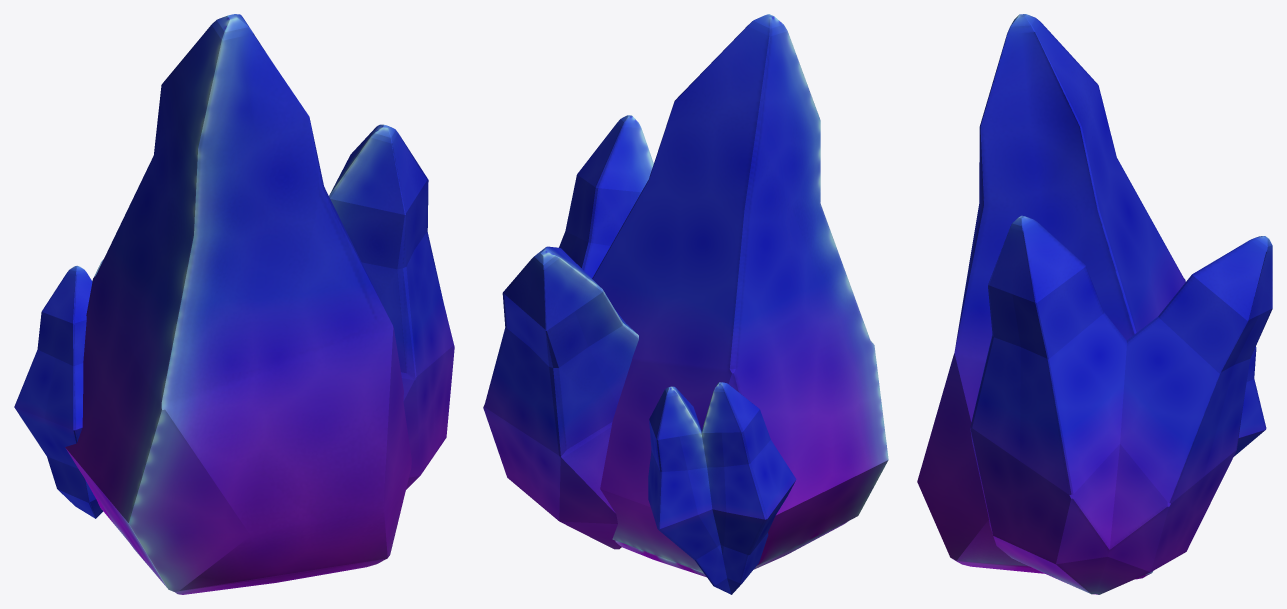
File: crystalSpike_mesh.fbx
3 renders of one model, left to right at view 1: azimuth 30°, elevation 25°; view 2: azimuth 150°, elevation 25°; view 3: azimuth 270°, elevation 25°, orthographic. The views are drawn at different scales.
Visible parts, largest first — view 1: crystalSpike_mesh; view 2: crystalSpike_mesh; view 3: crystalSpike_mesh.
Boxes of the visible parts, x1,y1,x2,y2 form: crystalSpike_mesh: (14, 14, 454, 594); crystalSpike_mesh: (483, 14, 888, 594); crystalSpike_mesh: (917, 14, 1272, 594).
Bounding box in the file's own units: 25.4 × 38.22 × 23.52.
Materials: 1 (1 with a texture image).
